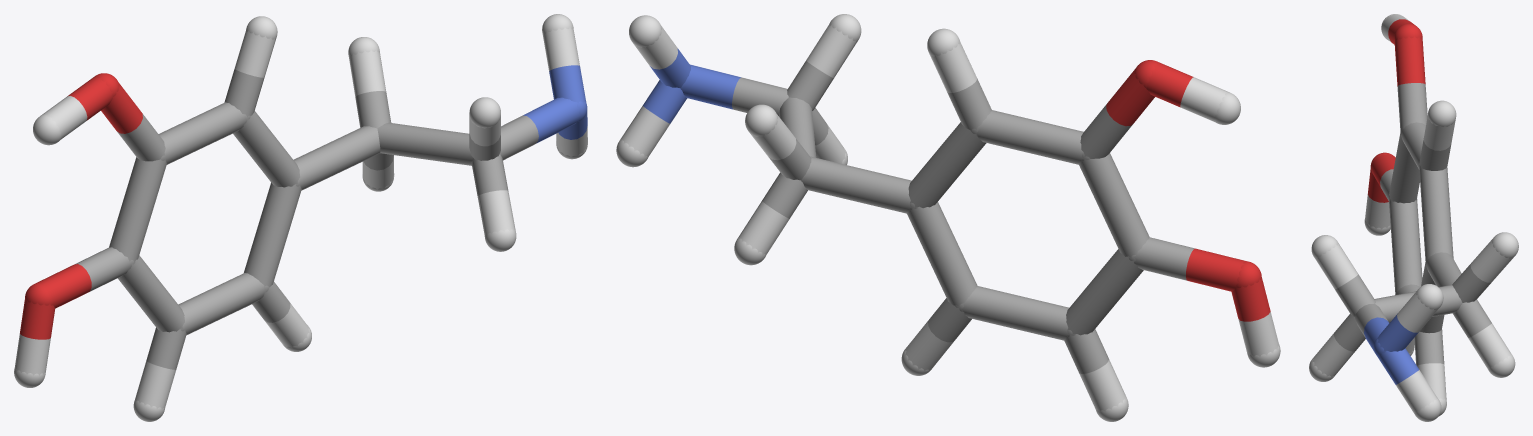
Rendered from 681-sticks-color-vis_NIH3D.glb.
3 renders of one model, left to right at view 1: azimuth 30°, elevation 25°; view 2: azimuth 150°, elevation 25°; view 3: azimuth 270°, elevation 25°, orthographic. The views are drawn at different scales.
Parts seen in each view (by area): view 1: bonds, atoms; view 2: bonds, atoms; view 3: bonds, atoms.
Part boxes in pixels (x1,y1,x2,y2): bonds: (14,26,587,409); atoms: (14,14,587,421); bonds: (620,23,1279,412); atoms: (616,14,1280,421); bonds: (1312,14,1513,413); atoms: (1309,14,1518,421).
Bounding box in the file's own units: 8.7 × 4.92 × 2.95.
